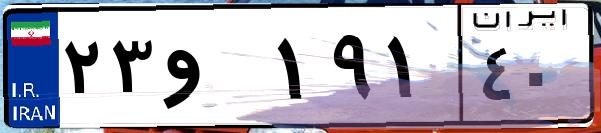0: (525, 38, 570, 115)
1: (270, 28, 330, 110), (385, 28, 445, 110)
2: (57, 26, 110, 100)
3: (110, 28, 158, 98)
4: (475, 38, 525, 113)
9: (330, 28, 385, 110)
و: (158, 20, 270, 120)
